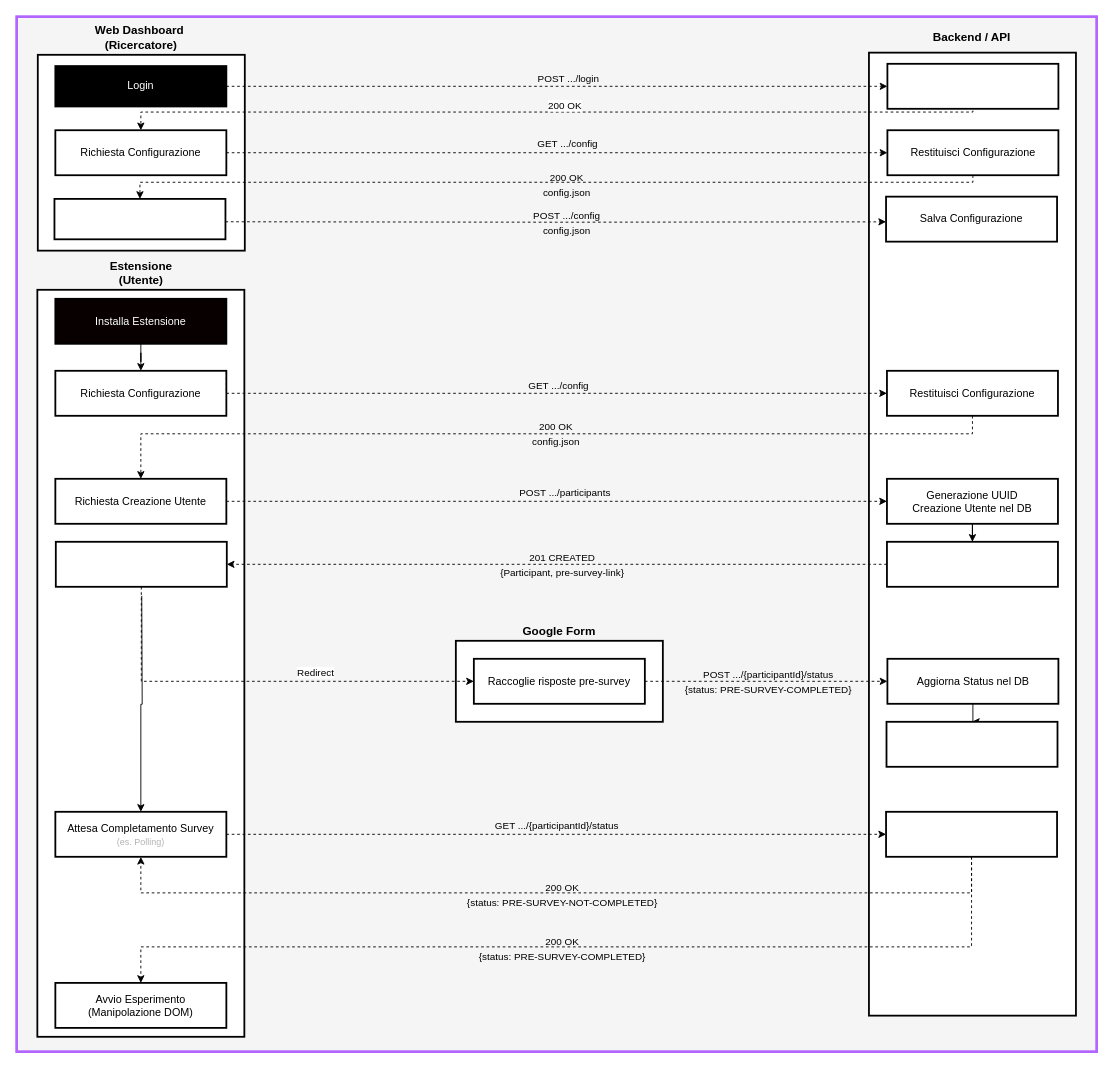
This 1113x1068 diagram has some shape labels left out. Here are the shapes that lost their labels. From the top down, the box of each, then its label:
(886, 62, 1059, 109): Verifica Credenziali
(53, 198, 226, 240): Configura Backend
(54, 540, 227, 587): Salva UUID in Locale (es. nella local storage del browser)
(886, 540, 1058, 587): Generazione Deep Link (es. google.forms?uuid=1234)
(885, 720, 1058, 767): Assegna Gruppo A/B
(885, 810, 1058, 857): Restituisce Status e Gruppo
